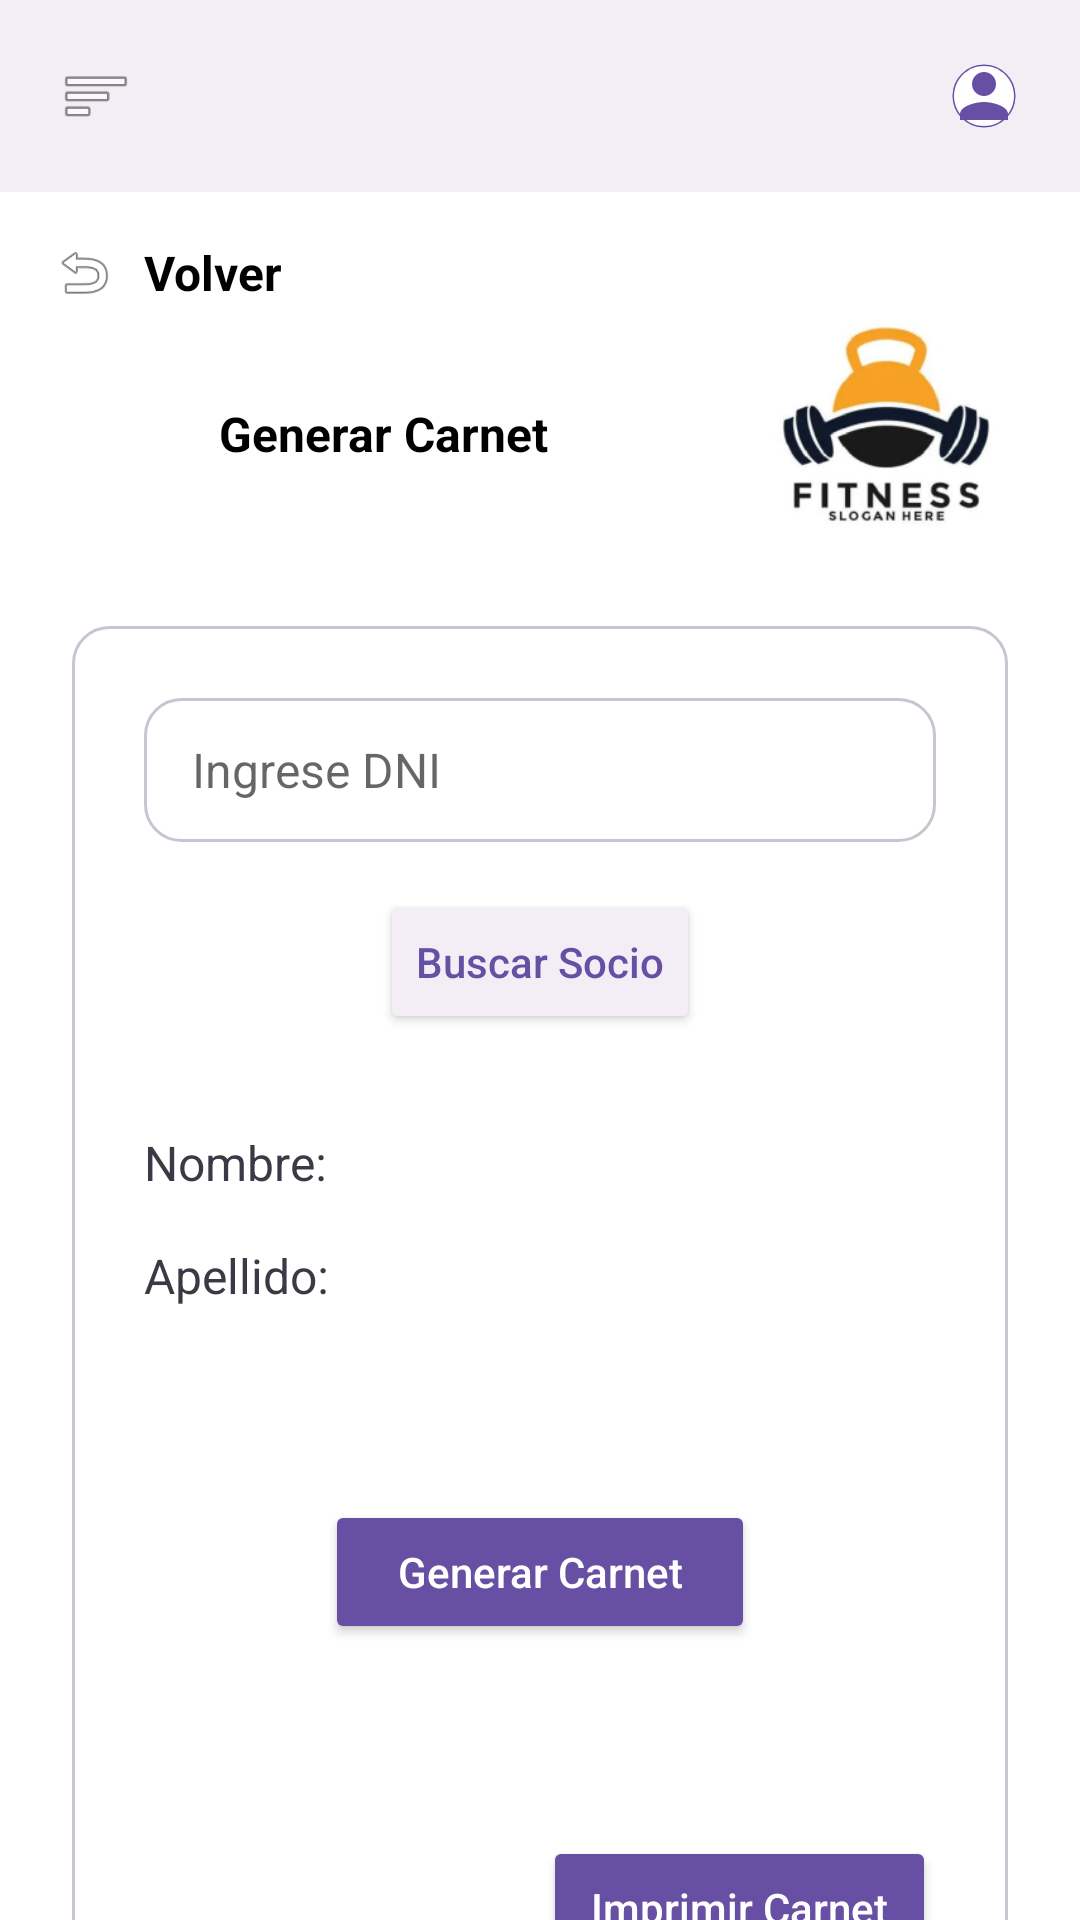

Icons on this 1080*1920 Android screen, each with the point to tap as (x=x, y=y):
revert: (x=84, y=273)
sort by size: (x=96, y=96)
